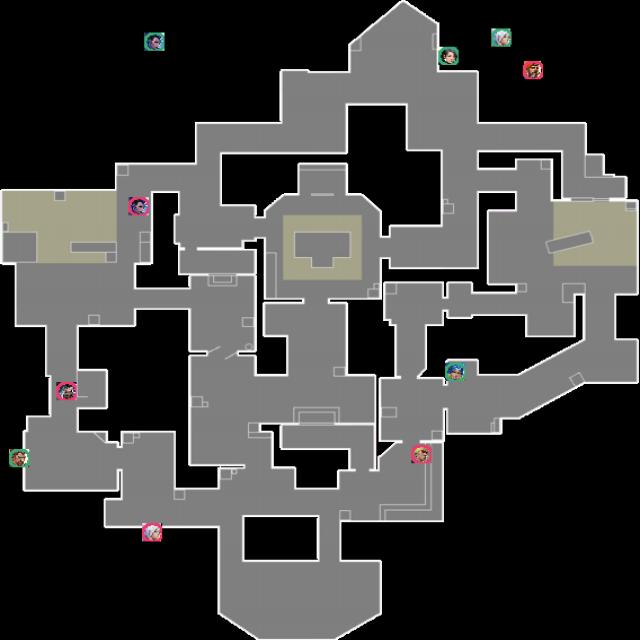atk_brimstone: (523, 61, 543, 79)
atk_fade: (56, 382, 77, 400)
atk_gekko: (411, 445, 432, 463)
atk_jett: (142, 523, 162, 542)
atk_yoru: (128, 197, 149, 215)
def_breach: (9, 449, 29, 467)
def_jett: (491, 28, 512, 47)
def_neon: (445, 363, 465, 381)
def_sage: (438, 47, 459, 65)
def_yoru: (144, 32, 165, 51)
